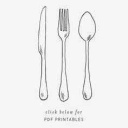fork: (51, 5, 76, 103)
